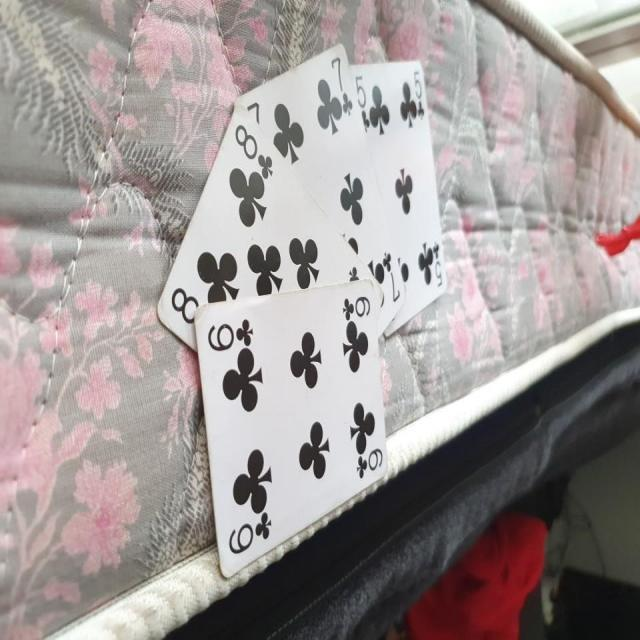5 of clubs: (350, 53, 448, 339)
6 of clubs: (192, 280, 390, 580)
7 of clubs: (232, 43, 408, 330)
8 of clubs: (152, 104, 386, 350)
